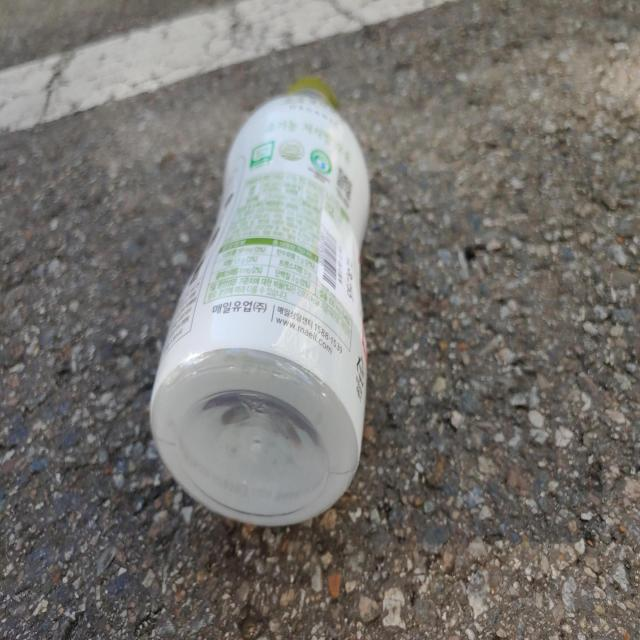plastic: (150, 77, 370, 526)
